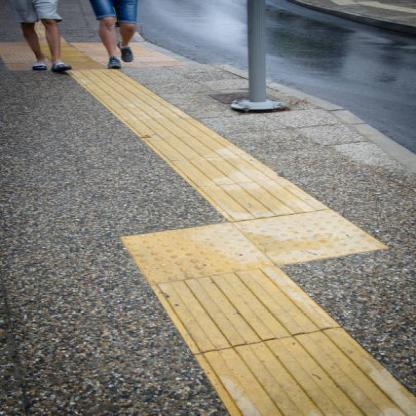podotacti: (0, 38, 411, 414)
